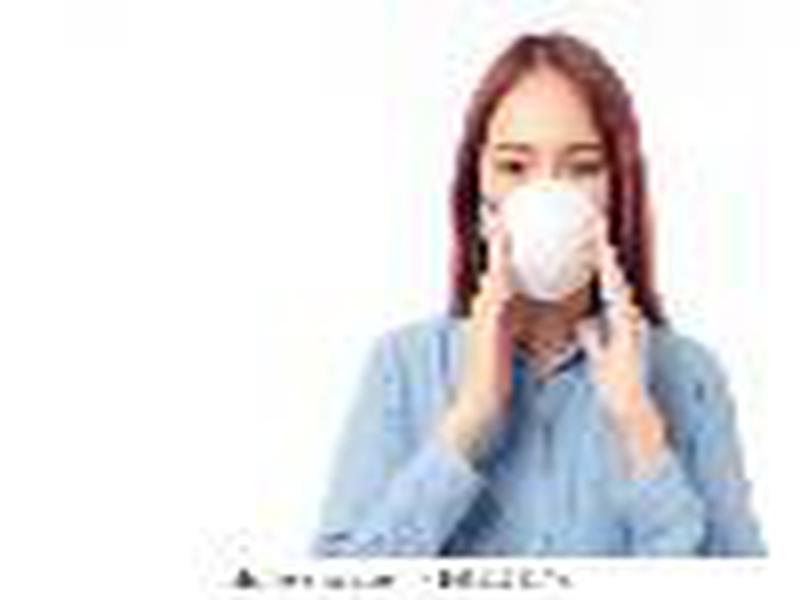with_mask: (474, 57, 618, 305)
